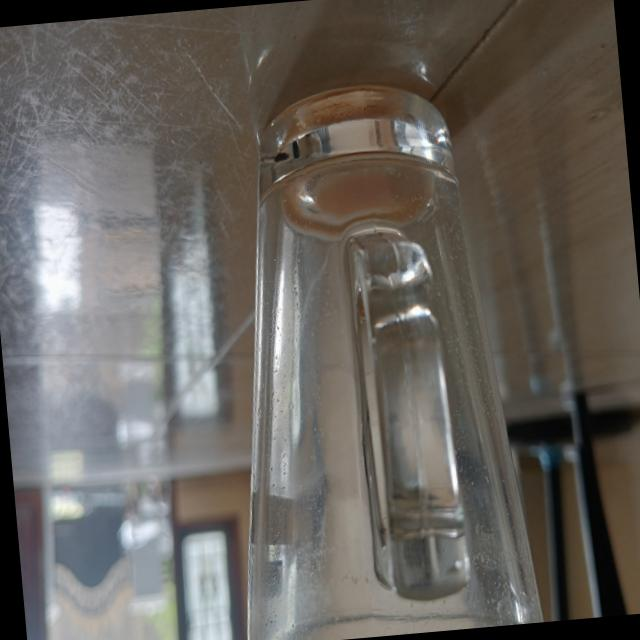glass-VX4N: (190, 69, 553, 640)
